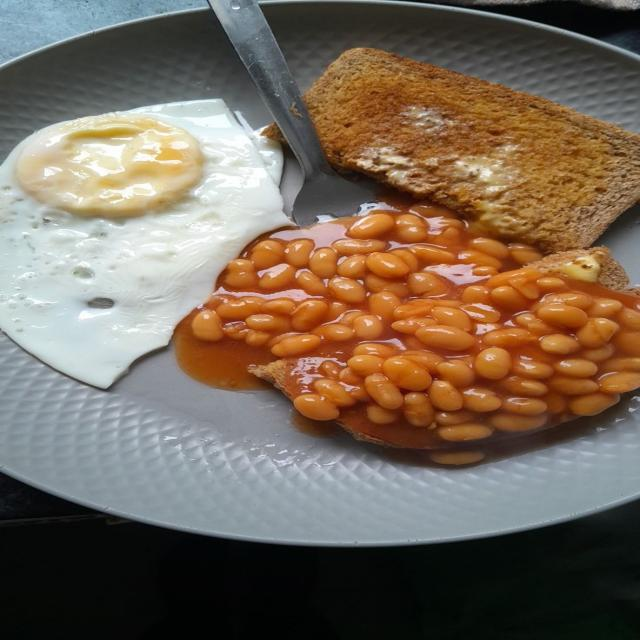sliced_bread: (304, 48, 639, 252)
